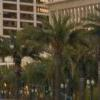Tree: (18, 19, 100, 92)
